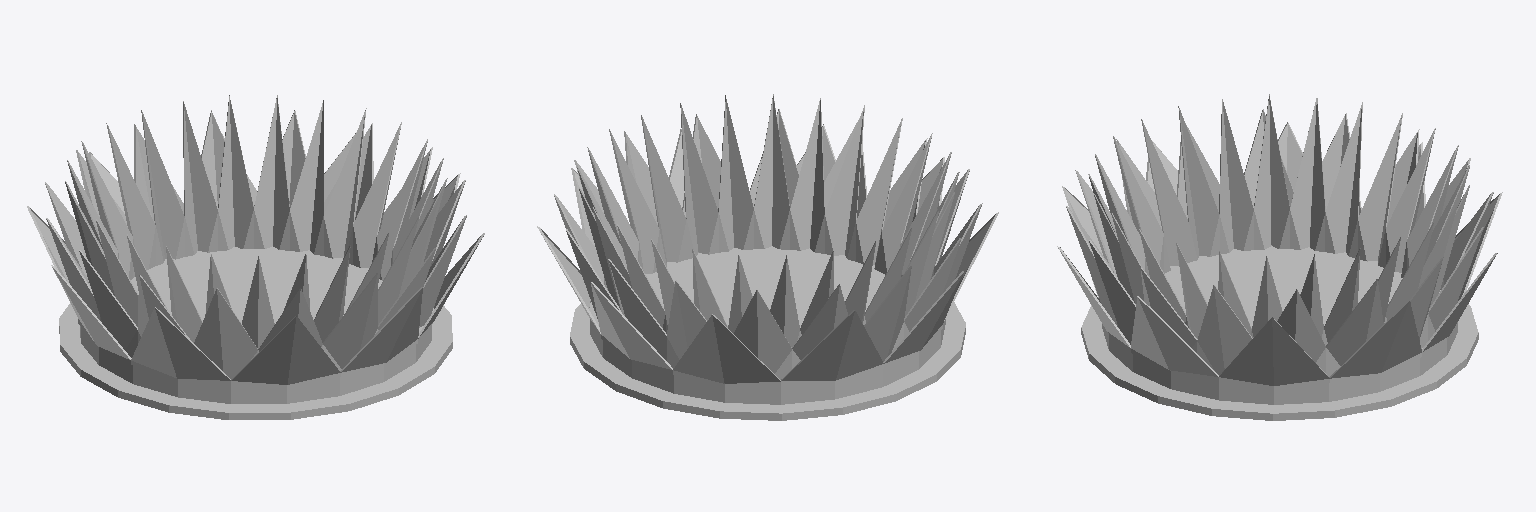
File: portal_000043.obj
3 views of the same model, side by side, from view 1: azimuth 30°, elevation 25°; view 2: azimuth 150°, elevation 25°; view 3: azimuth 270°, elevation 25° (orthographic).
Parts seen in each view (by area): view 1: Cylinder.001, pCylinder1, Cylinder; view 2: Cylinder.001, pCylinder1, Cylinder; view 3: Cylinder.001, pCylinder1, Cylinder.
Boxes of the visible parts, <box> form: Cylinder.001: <box>65,95,447,348</box>; pCylinder1: <box>27,132,484,419</box>; Cylinder: <box>45,110,466,379</box>; Cylinder.001: <box>577,94,959,347</box>; pCylinder1: <box>537,124,998,420</box>; Cylinder: <box>554,109,982,379</box>; Cylinder.001: <box>1088,94,1469,345</box>; pCylinder1: <box>1057,122,1502,420</box>; Cylinder: <box>1066,109,1493,376</box>.
Bounding box in the file's own units: 7.44 × 2.9 × 7.16.